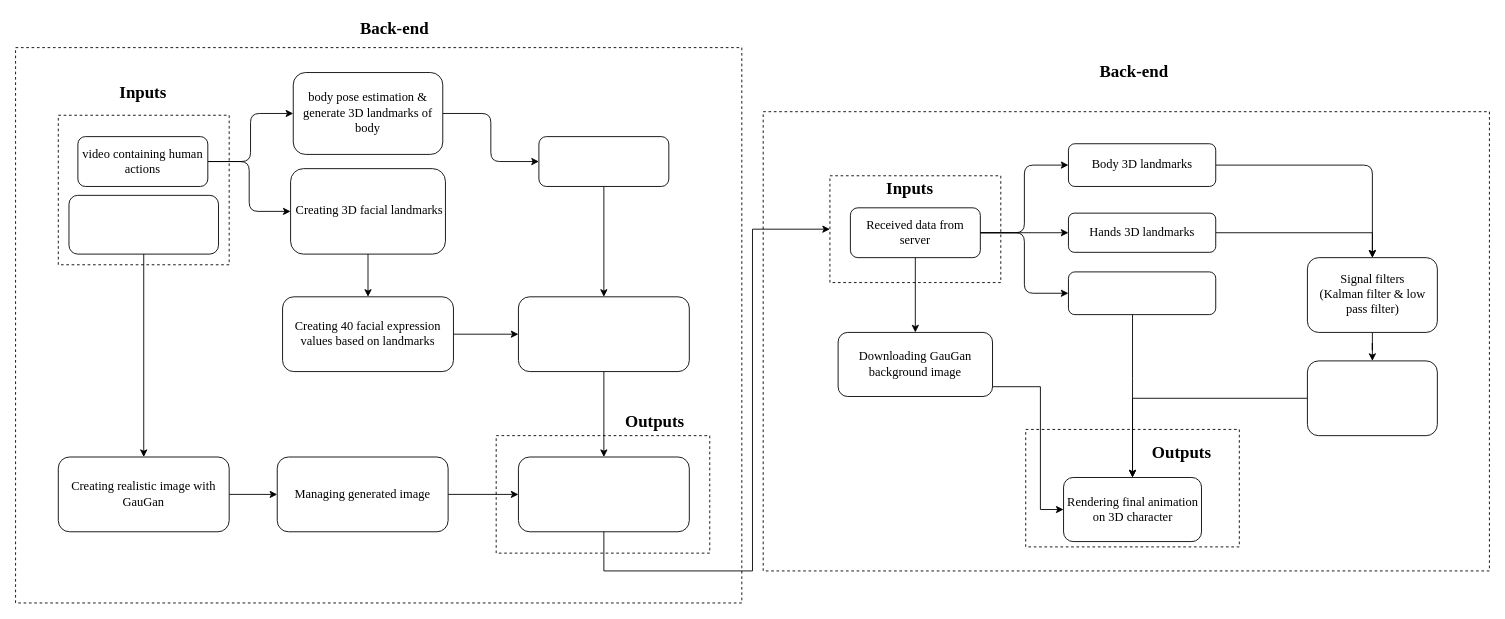
The diagram is 1505 pixels wide and 619 high, and some of its shapes have lost their labels. Here are the shapes that lost their labels. From the top down, the box of each, then its label:
(538, 136, 669, 186): Managing generated landmarks
(68, 194, 218, 254): Human made semantic segmentation
(1068, 271, 1216, 315): Facial Expression values
(518, 296, 689, 372): Data Augmentation
(1307, 360, 1437, 436): Calculating position and rotation of each joint in rigging system
(518, 456, 689, 532): Sending data to Unity3D
